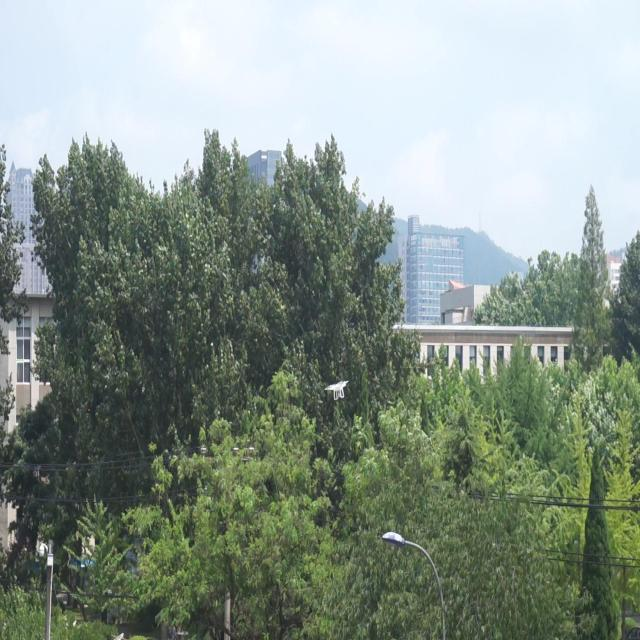drone: (321, 374, 355, 402)
